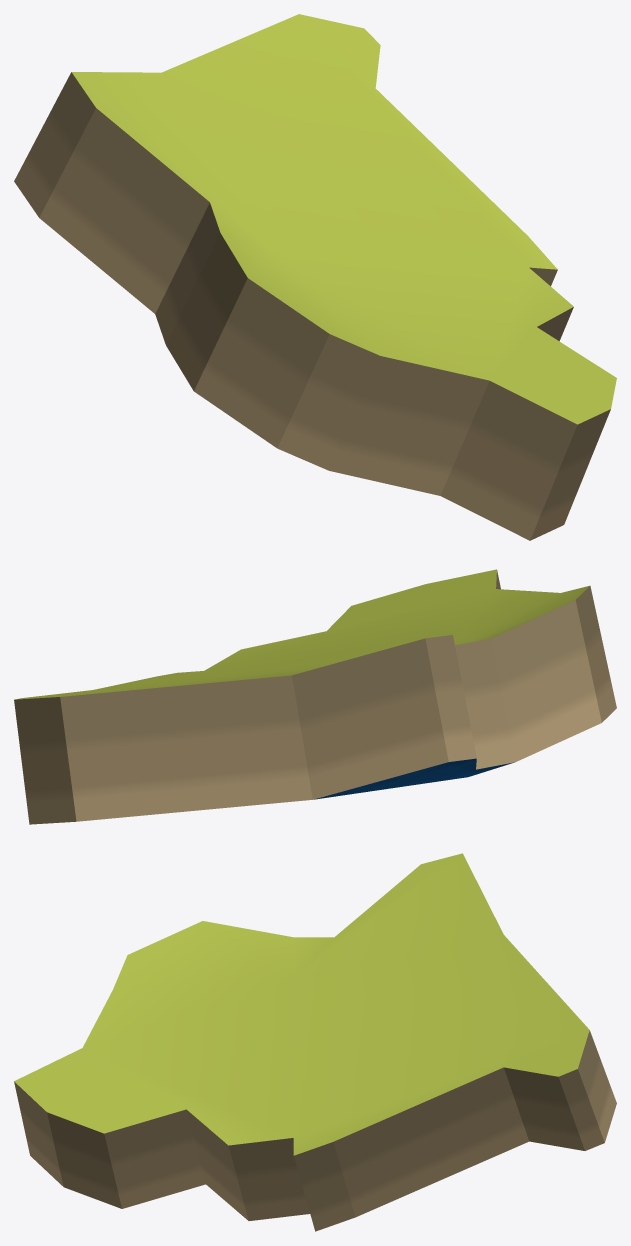
File: 0652_Chad.glb
3 views of the same model, one above another, from view 1: azimuth 30°, elevation 25°; view 2: azimuth 150°, elevation 25°; view 3: azimuth 270°, elevation 25° (orthographic). The views are drawn at different scales.
Visible parts, largest first — view 1: part_0; view 2: part_0; view 3: part_0.
Boxes of the visible parts, x1,y1,x2,y2 form: part_0: (14, 14, 616, 540); part_0: (14, 569, 616, 824); part_0: (14, 853, 616, 1231).
Bounding box in the file's own units: 0.7159 × 0.5321 × 1.16.
Materials: 1 (1 with a texture image).
